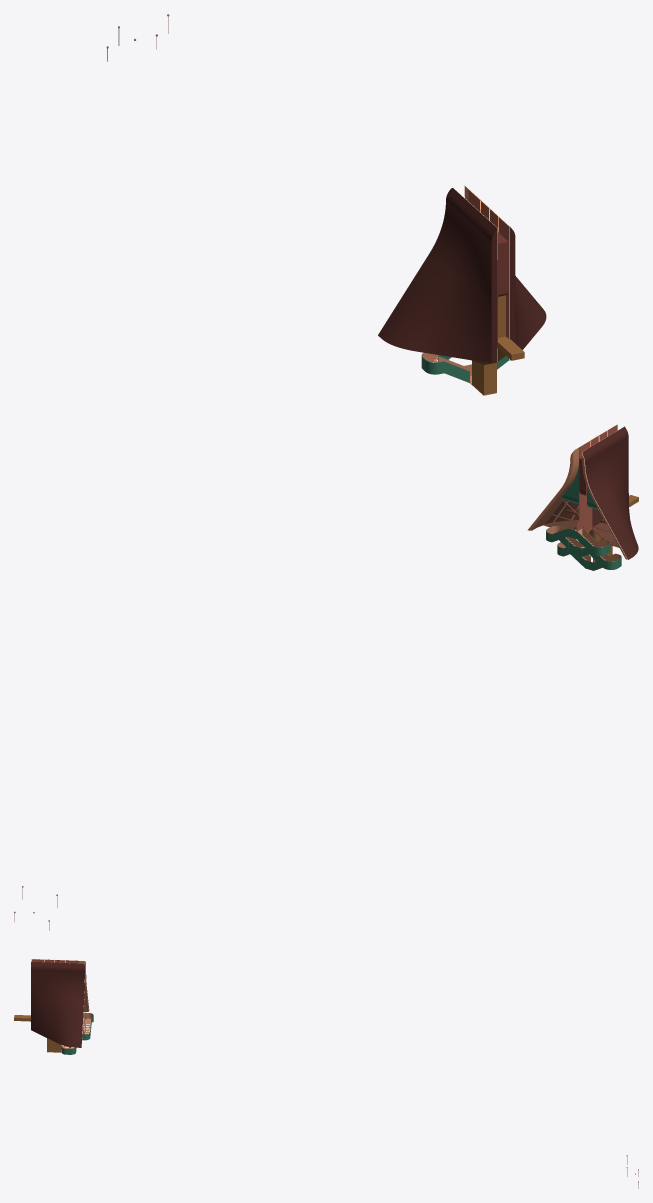
The model's file is dreamchasers.glb.
3 views of the same model, one above another, from view 1: azimuth 30°, elevation 25°; view 2: azimuth 150°, elevation 25°; view 3: azimuth 270°, elevation 25° (orthographic). The views are drawn at different scales.
Visible parts, largest first — view 1: CHASERS, Group267, Box027, Box026, Box024; view 2: CHASERS, Group267, Line029, Box026; view 3: CHASERS, Group267.
Part boxes in pixels (x1,y1,x2,y2): CHASERS: (378,185,546,363); Group267: (421,295,510,395); Box027: (472,336,524,394); Box026: (468,190,509,340); Box024: (498,232,508,296); CHASERS: (527,424,638,559); Group267: (543,499,621,570); Line029: (528,448,627,559); Box026: (576,424,617,531); CHASERS: (31,959,89,1047); Group267: (47,1012,93,1054).
Size of the model in its own units: 31.63 by 30.25 by 104.
